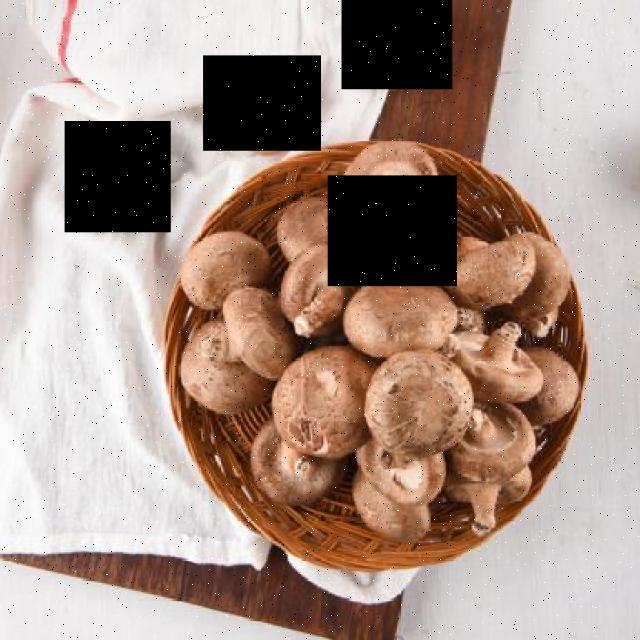Mushroom: (328, 176, 457, 286), (64, 120, 170, 232), (203, 56, 320, 152), (342, 0, 453, 89)
